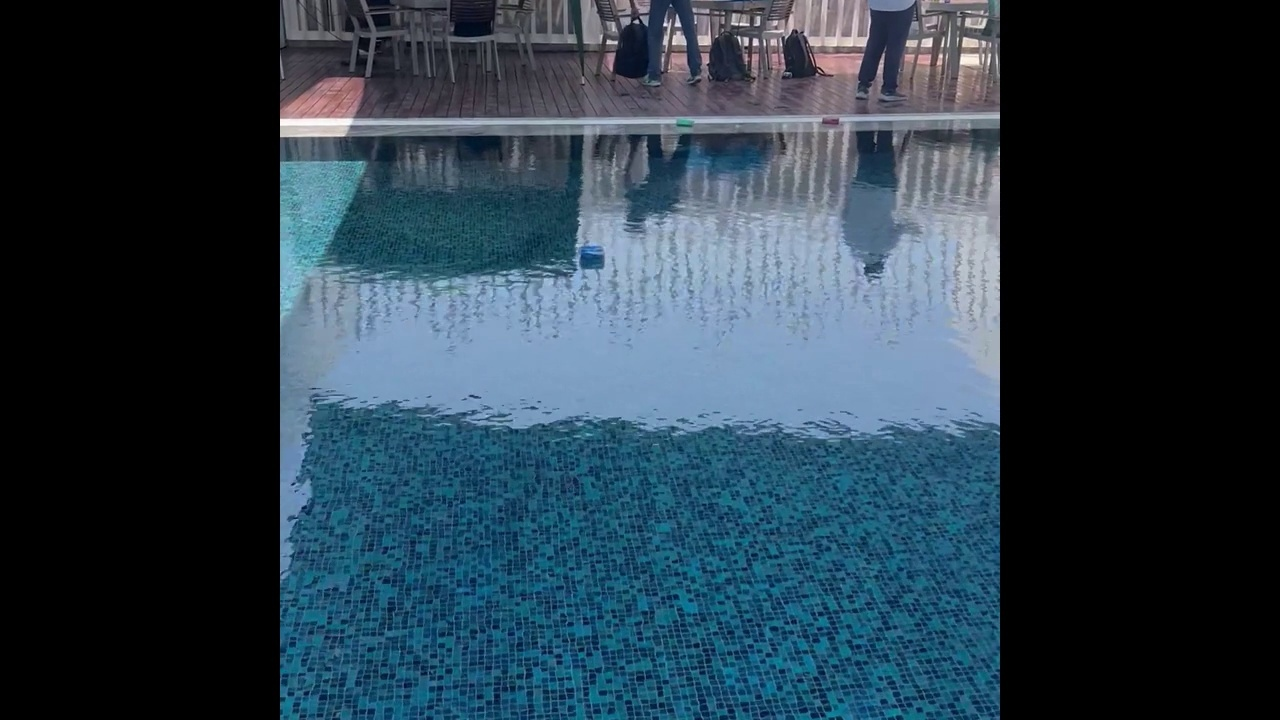debris: (578, 244, 607, 265), (671, 114, 697, 133), (816, 111, 842, 130)
